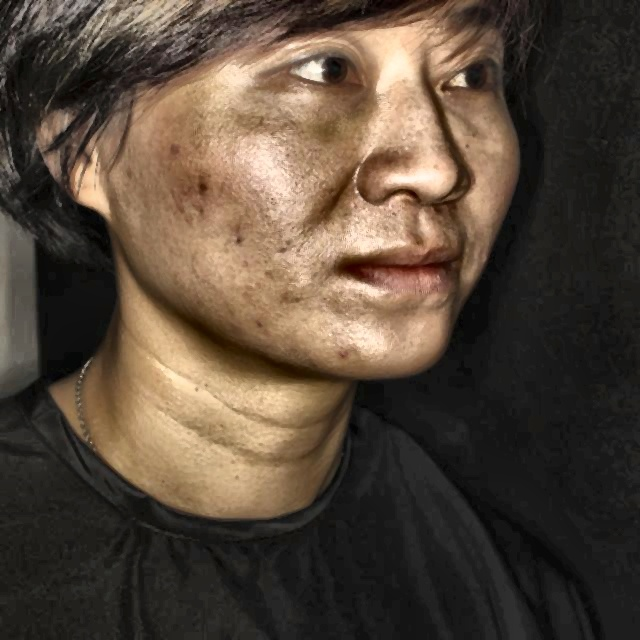comedone: (190, 176, 220, 200), (336, 340, 360, 363)
